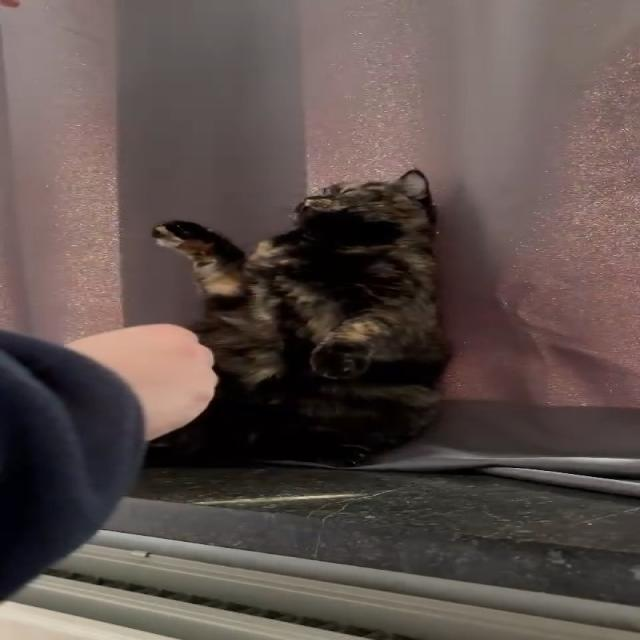authorized: (147, 167, 452, 468)
